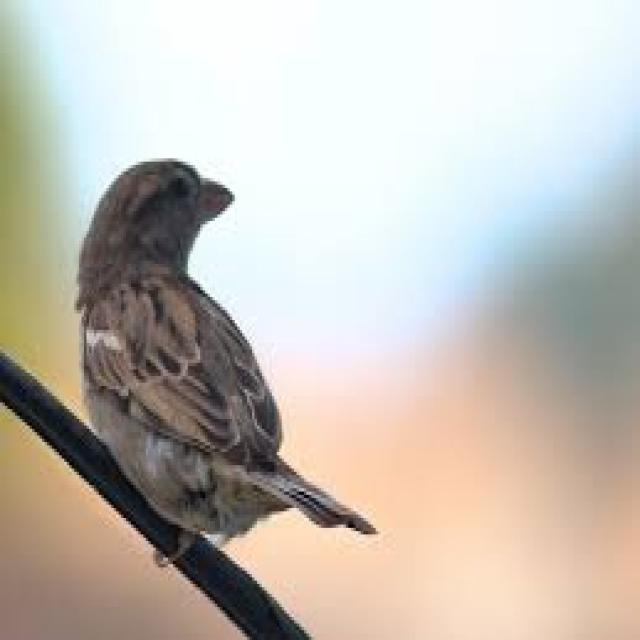bird: (69, 149, 412, 561)
